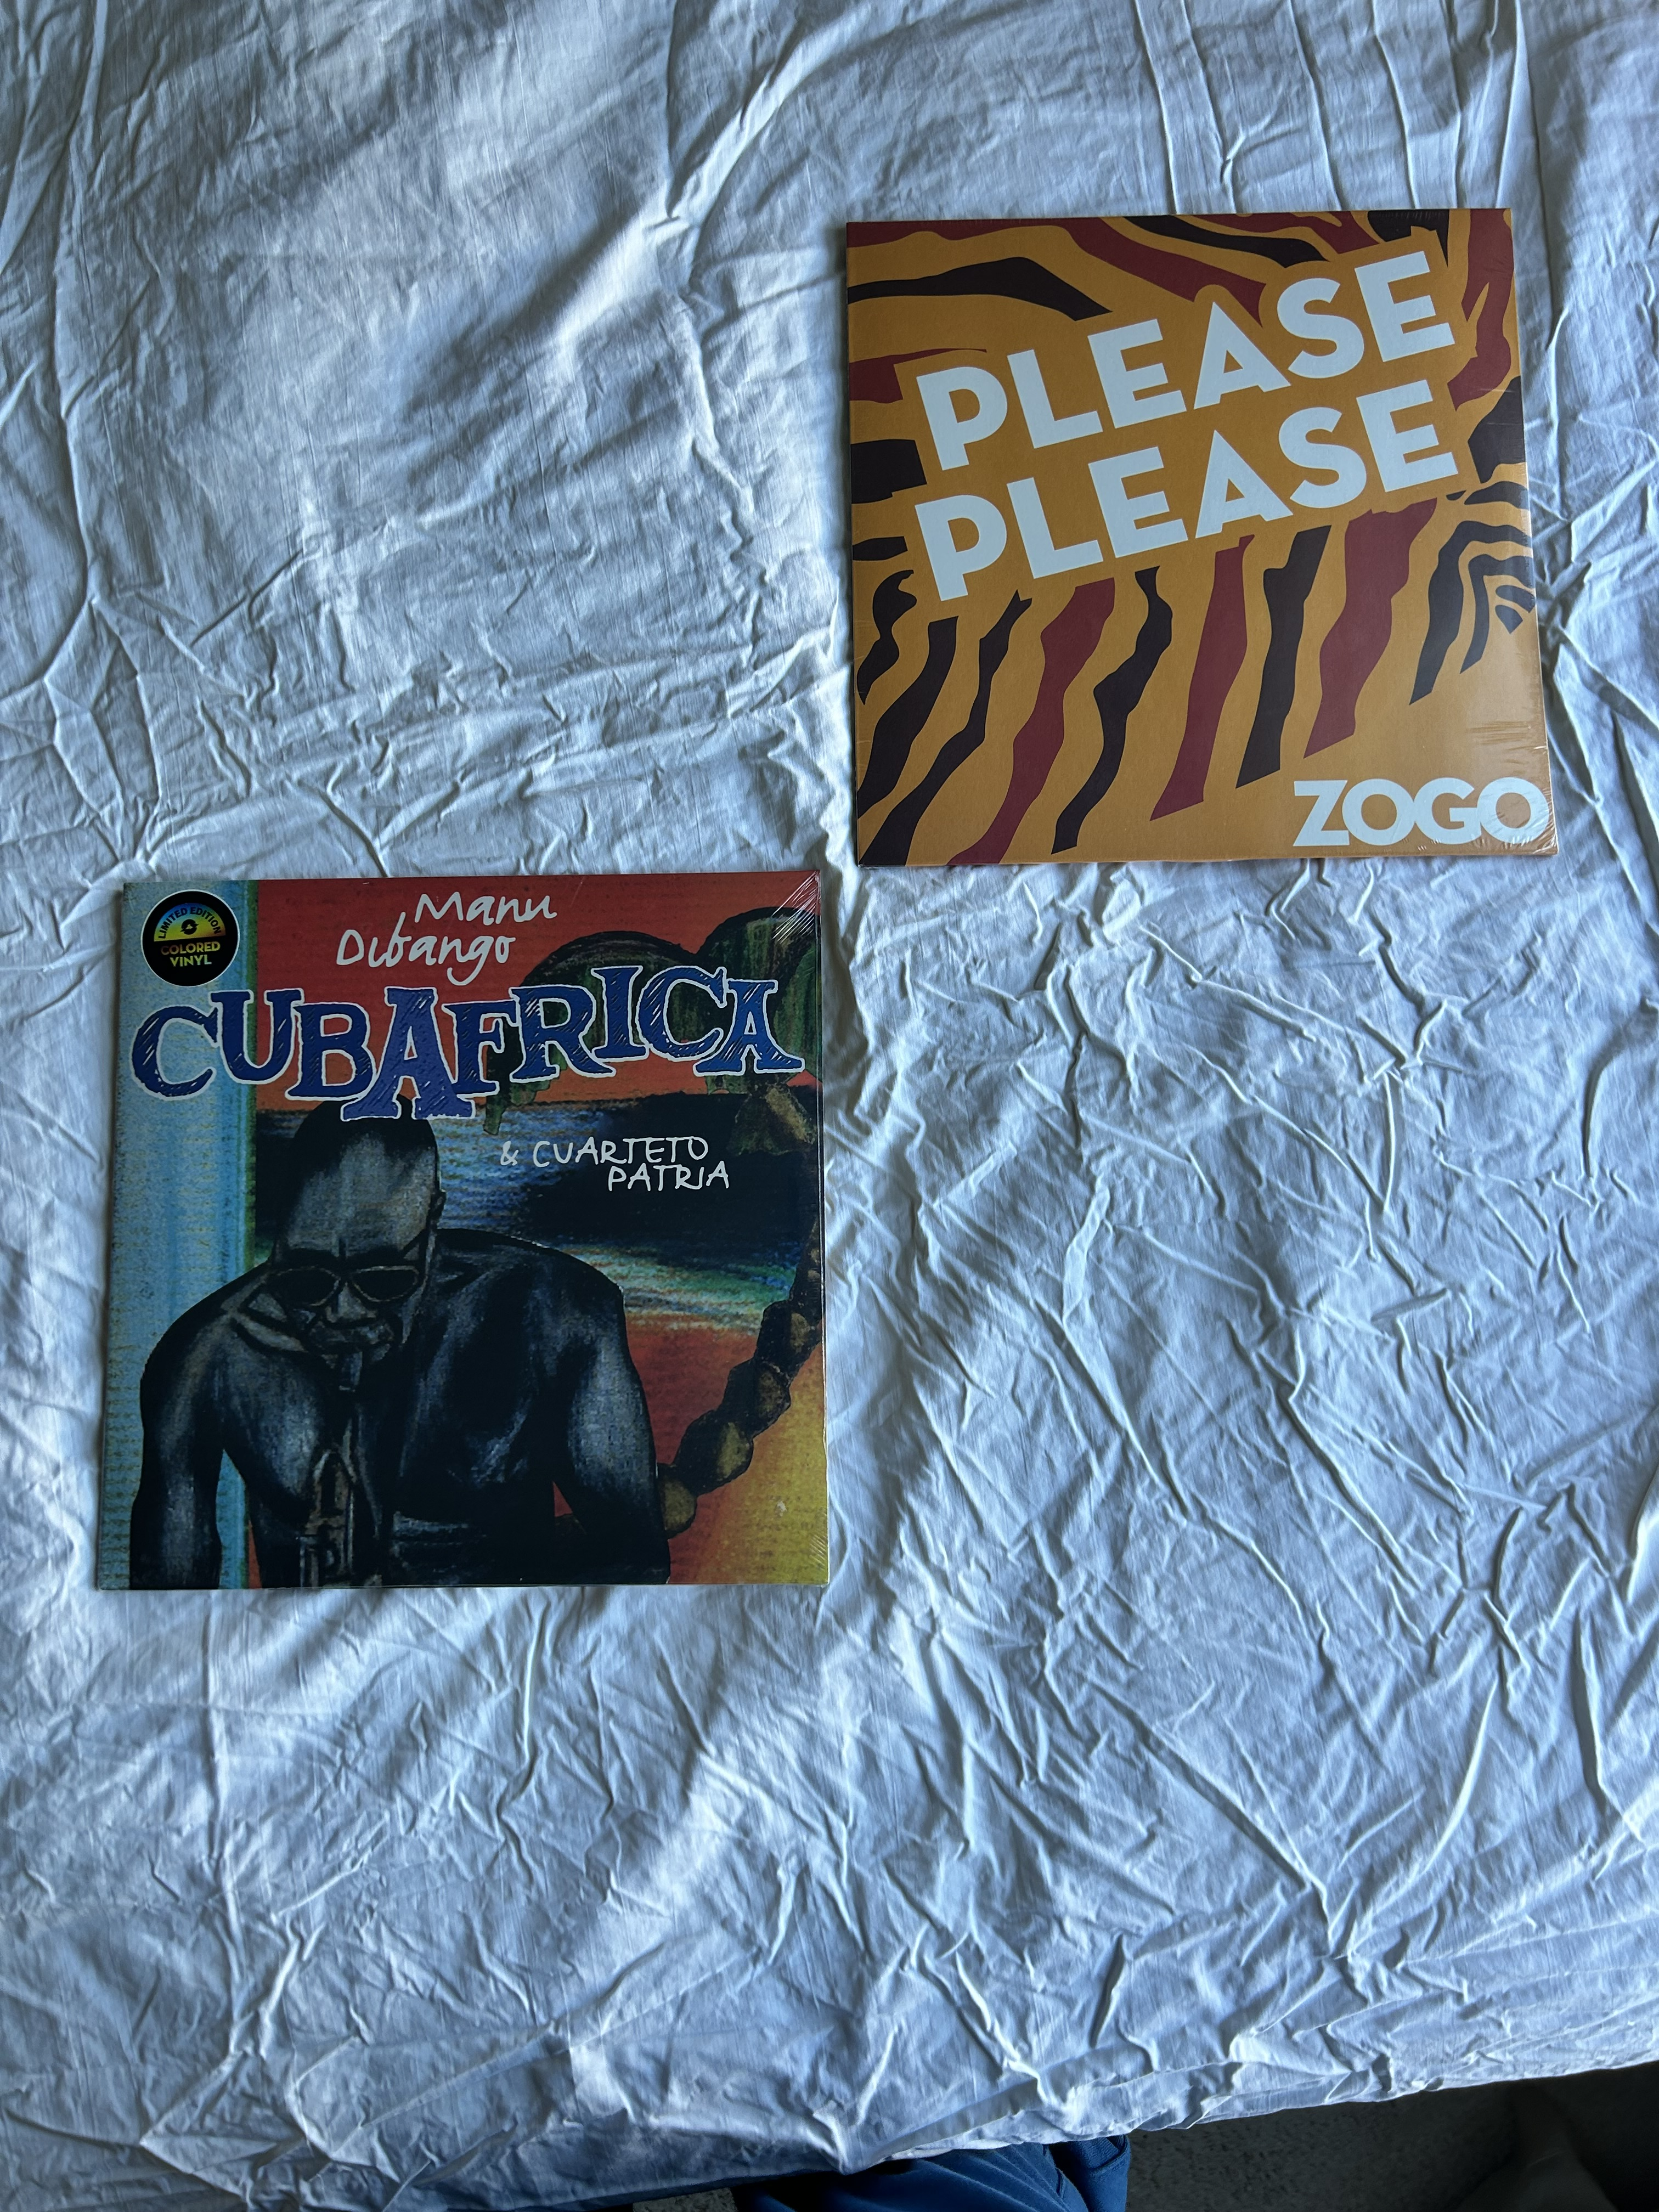manu dibango_cubafrica: (105, 866, 842, 1588)
zogo_please please: (828, 212, 1537, 871)
